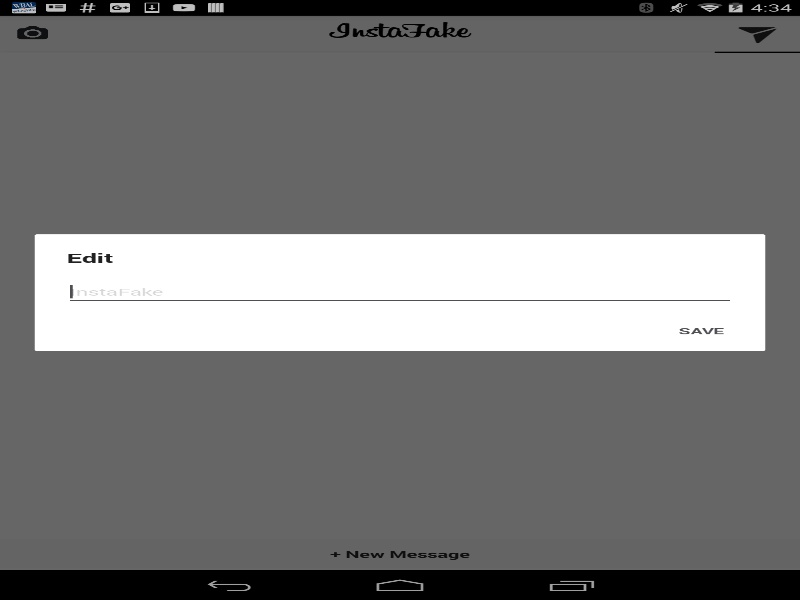Input: (64, 278, 735, 305)
